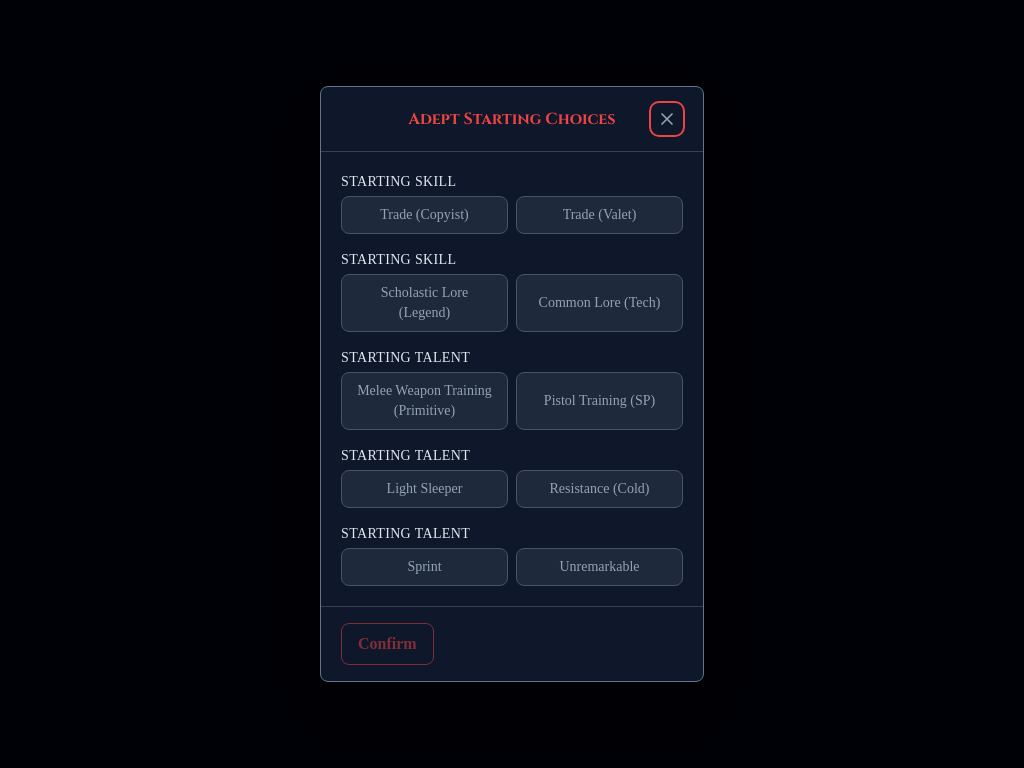
Test: CareerStartingChoiceModal › disables Confirm until every choice is made
The image size is (1024, 768).
Check: the button "Confirm" is disabled, box [341, 623, 434, 665]
What coordinates should you click on to do the following:
click the button "Trade (Copyist)"
I would click on:
 (424, 215)
Its box is [341, 196, 508, 234].
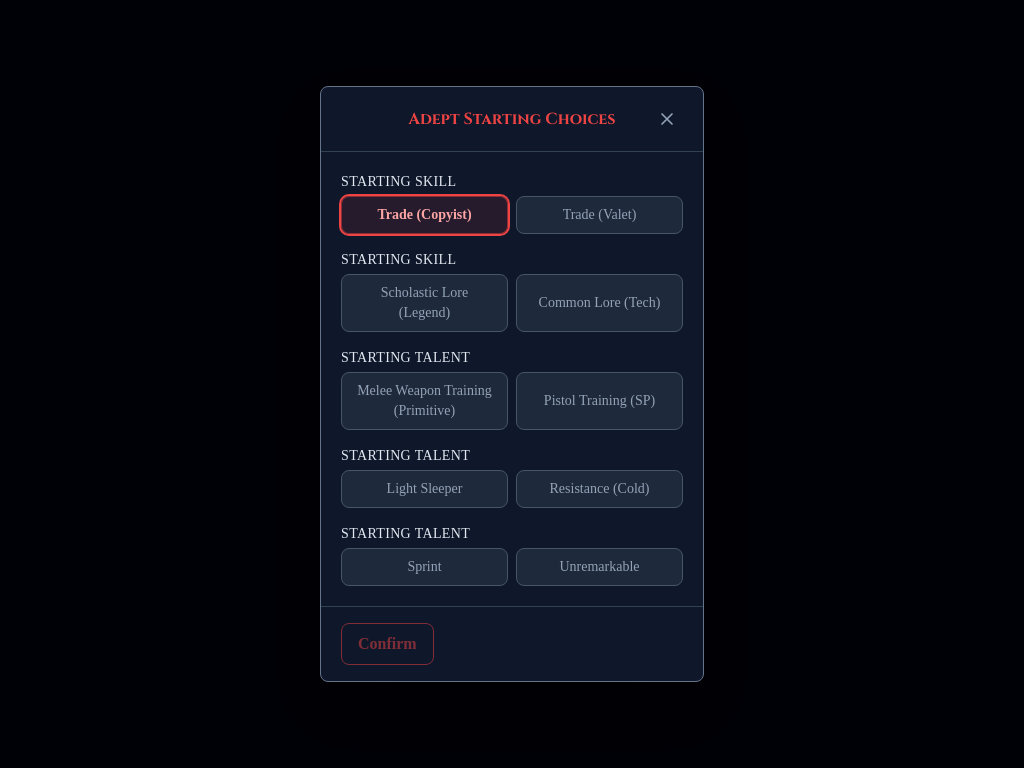
What coordinates should you click on to do the following:
click the button "Scholastic Lore (Legend)"
I would click on:
 (424, 303)
Its box is [341, 274, 508, 332].
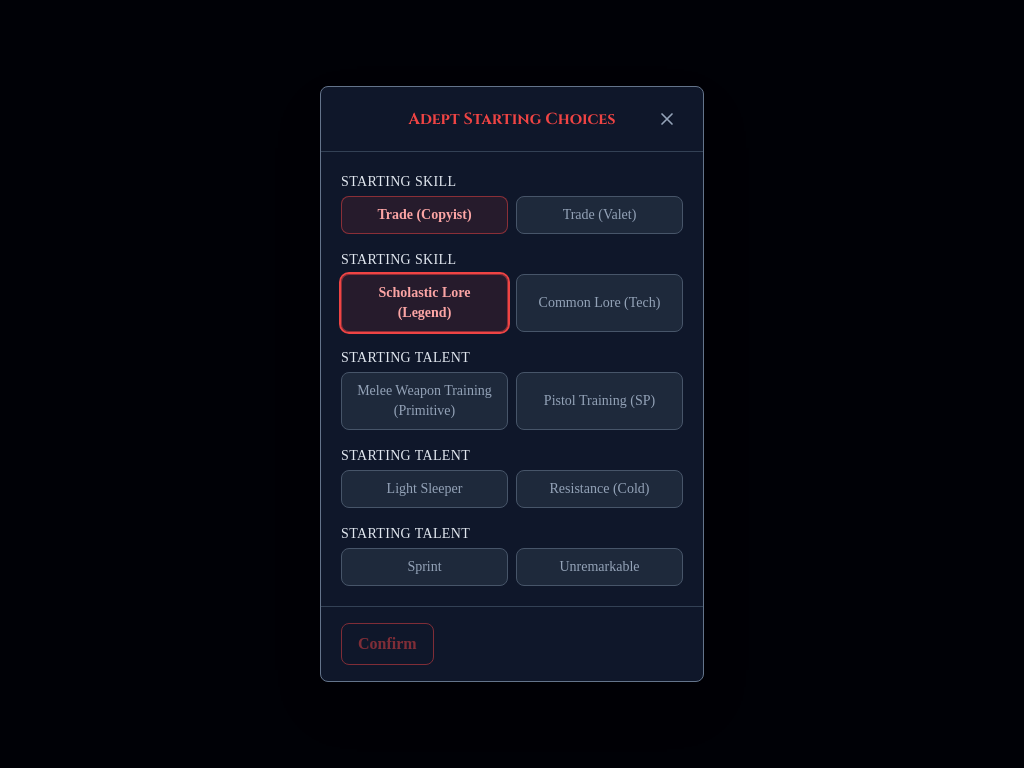
What coordinates should you click on to do the following:
click the button "Melee Weapon Training (Primitive)"
I would click on:
 (424, 401)
Its box is [341, 372, 508, 430].
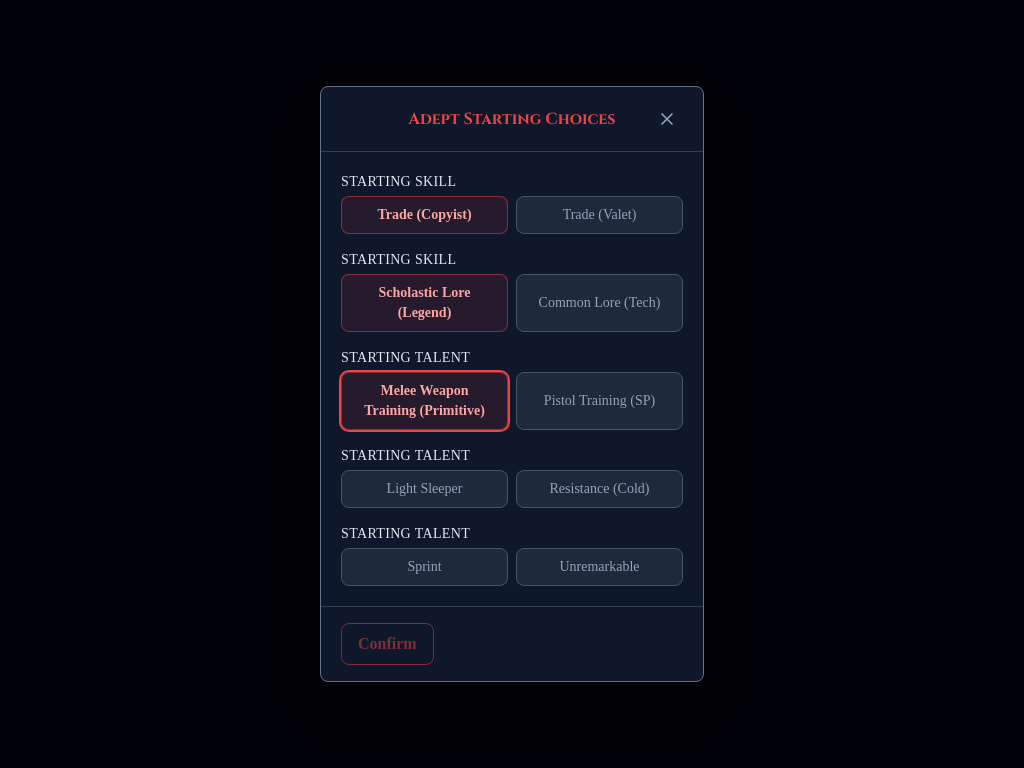
What coordinates should you click on to do the following:
click the button "Light Sleeper"
I would click on:
 (424, 489)
Its box is [341, 470, 508, 508].
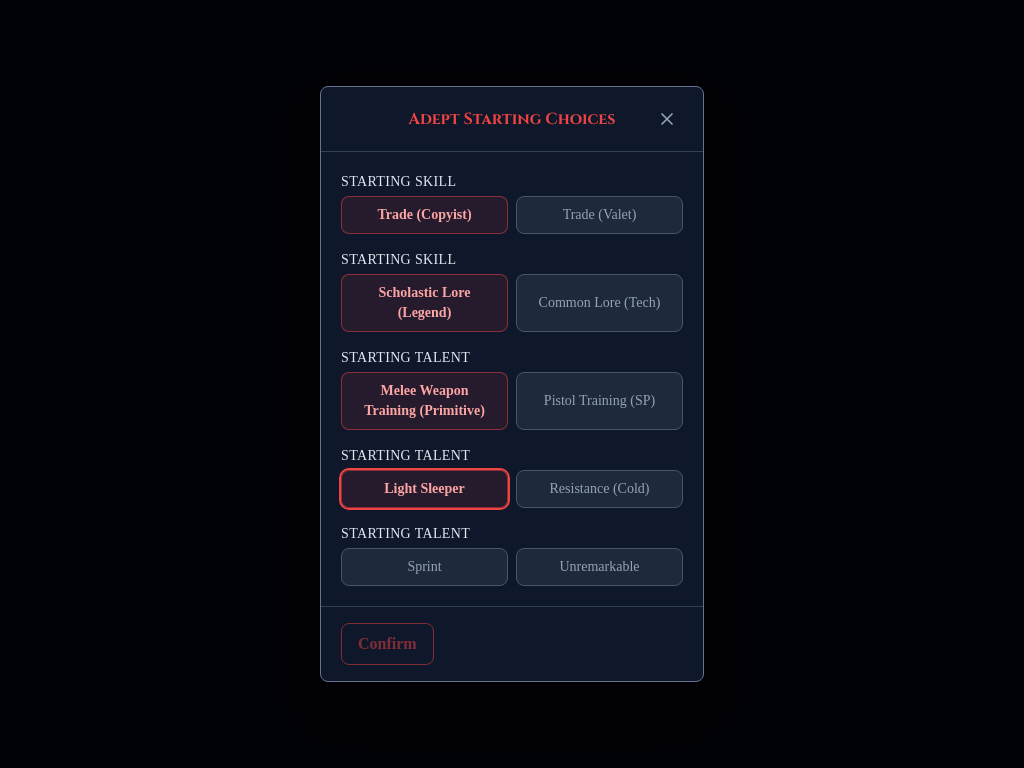
What coordinates should you click on to do the following:
click the button "Sprint"
I would click on:
 (424, 567)
Its box is [341, 548, 508, 586].
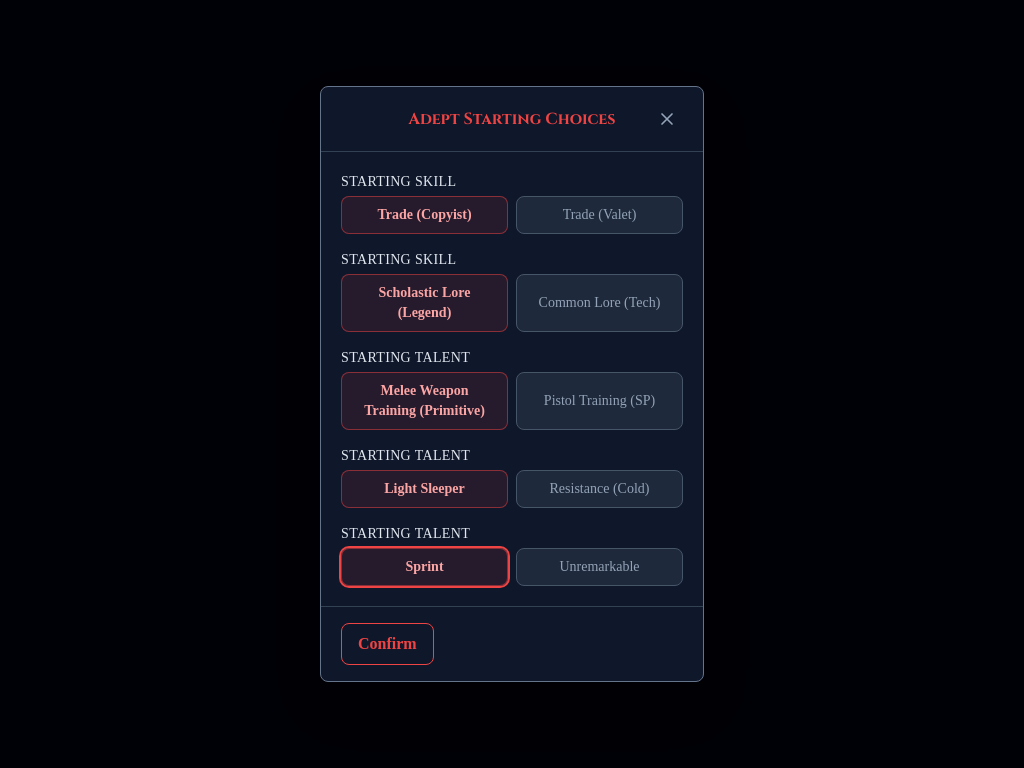
Check: the button "Confirm" is enabled, box [341, 623, 434, 665]
